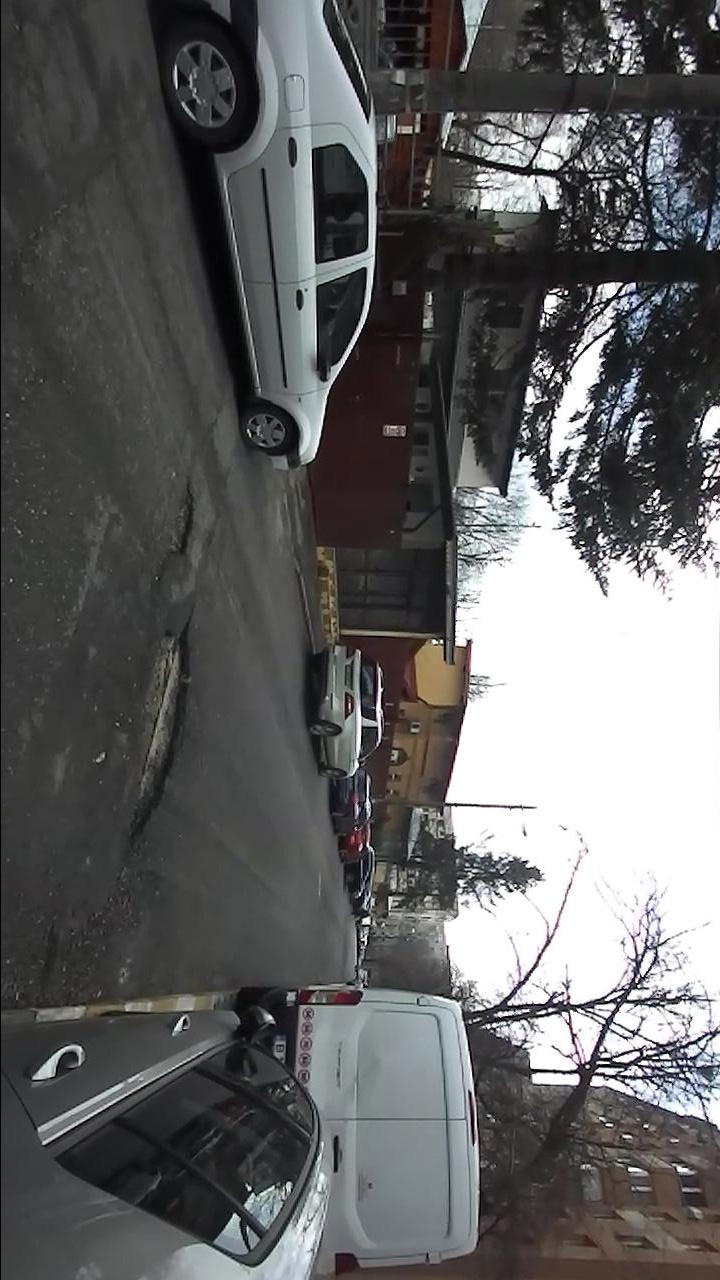pothole: (119, 609, 199, 862), (150, 474, 198, 583)
